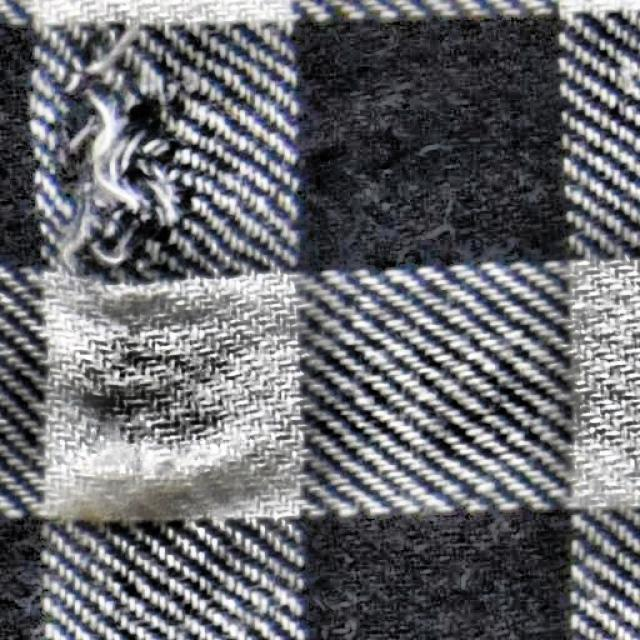Stitch: (45, 26, 185, 295)
